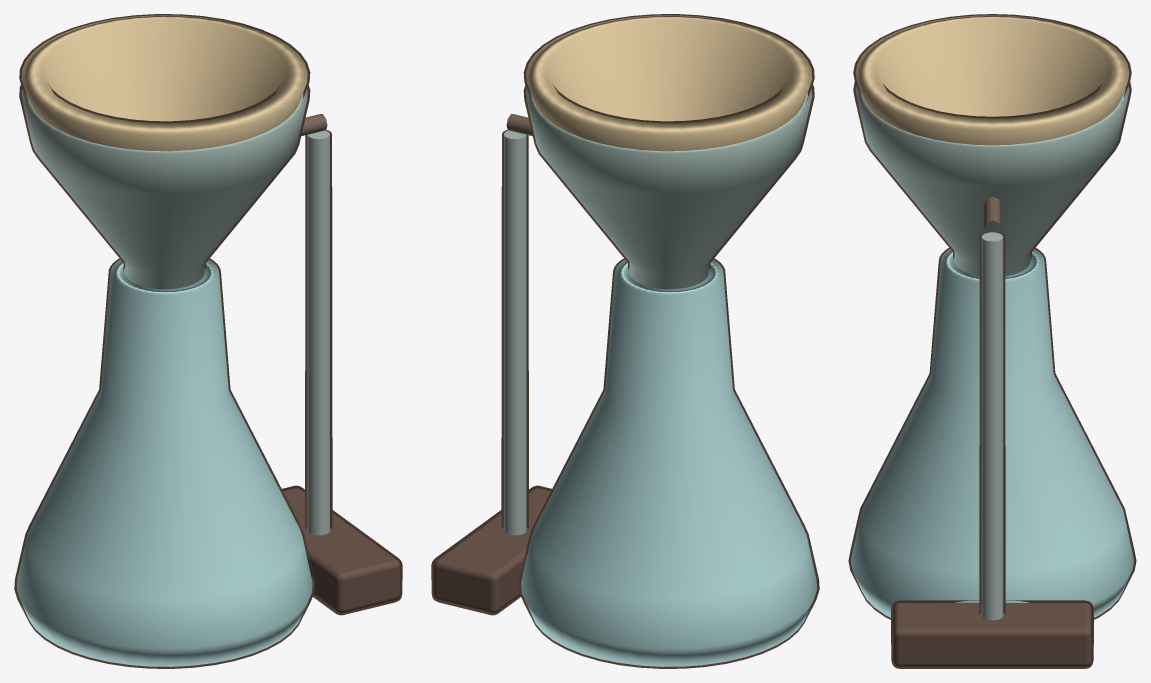
File: prop_20014.glb
3 views of the same model, side by side, from view 1: azimuth 30°, elevation 25°; view 2: azimuth 150°, elevation 25°; view 3: azimuth 270°, elevation 25° (orthographic). The views are drawn at different scales.
Visible parts, largest first — view 1: prop_20014; view 2: prop_20014; view 3: prop_20014.
Part boxes in pixels (left/top/right/bottom): prop_20014: left=14, top=14, right=402, bottom=668; prop_20014: left=431, top=14, right=819, bottom=668; prop_20014: left=848, top=14, right=1136, bottom=668.
Bounding box in the file's own units: 0.5122 × 0.83 × 0.4194.
